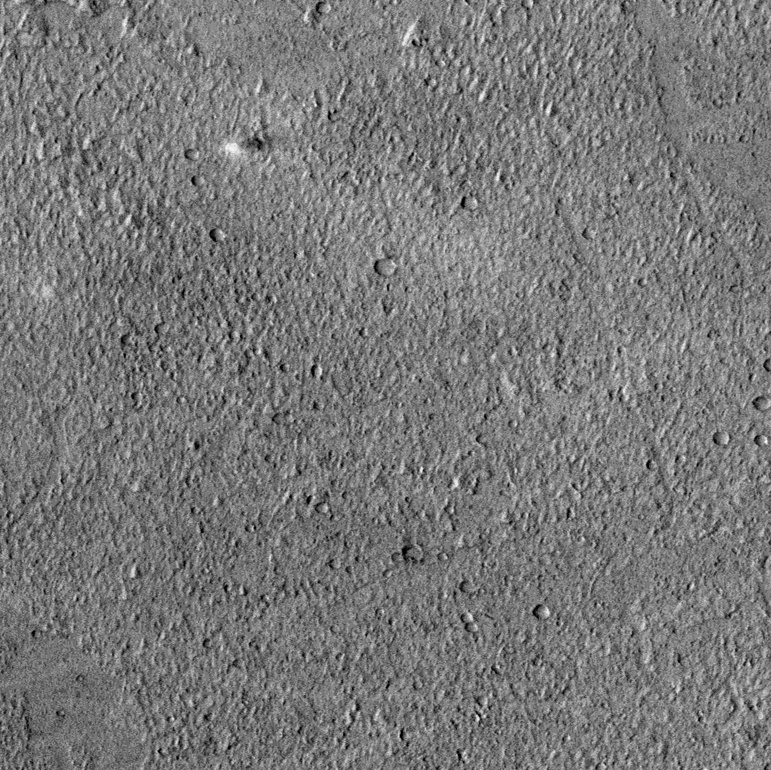dust_devil: (223, 133, 265, 157)
